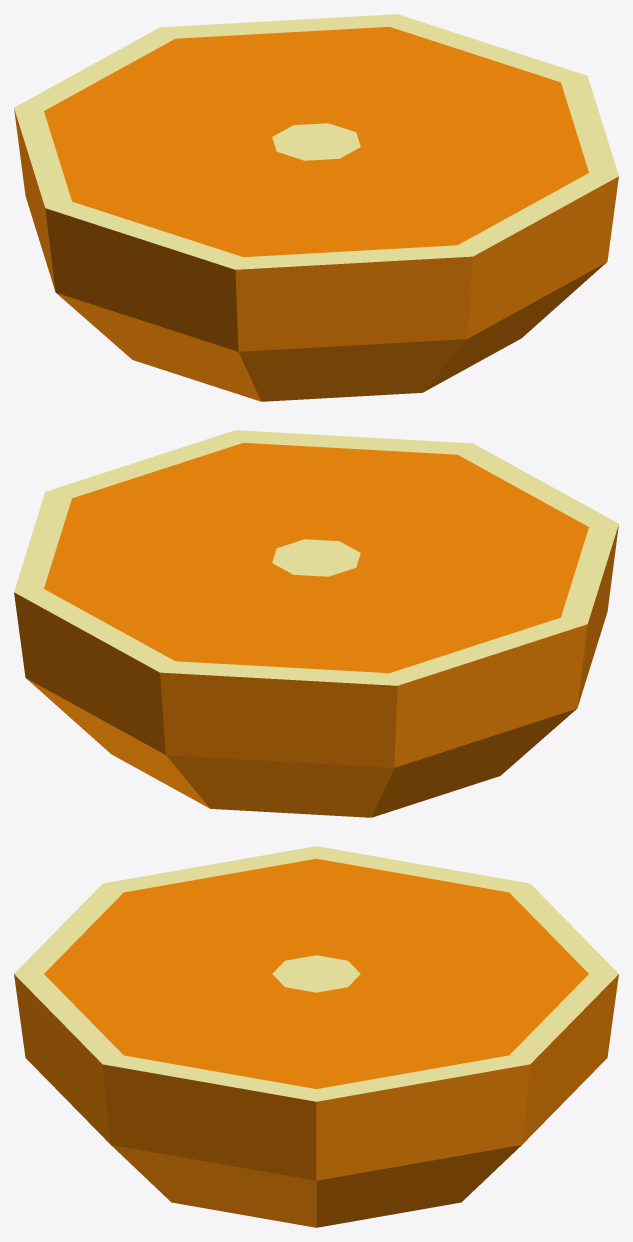
File: orange02.gltf
3 views of the same model, one above another, from view 1: azimuth 30°, elevation 25°; view 2: azimuth 150°, elevation 25°; view 3: azimuth 270°, elevation 25° (orthographic). The views are drawn at different scales.
Parts seen in each view (by area): view 1: Cylinder; view 2: Cylinder; view 3: Cylinder.
Part boxes in pixels (box(x1,y1,x2,y2)): Cylinder: box(14, 14, 618, 401); Cylinder: box(14, 430, 618, 817); Cylinder: box(14, 846, 618, 1227).
Bounding box in the file's own units: 0.1047 × 0.0404 × 0.1047.
Materials: 1 (1 with a texture image).
